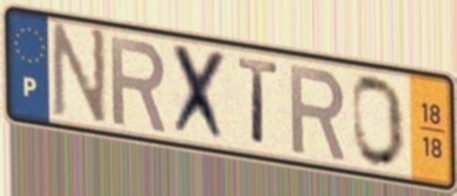N: (49, 19, 109, 131)
O: (349, 72, 408, 171)
R: (287, 60, 349, 164), (107, 32, 169, 135)
T: (235, 53, 281, 150)
X: (169, 39, 230, 148)
